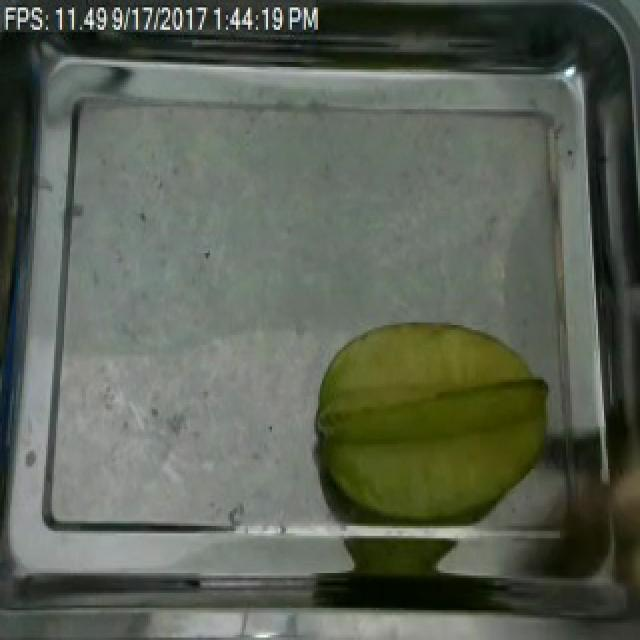fruit: (302, 310, 564, 533)
